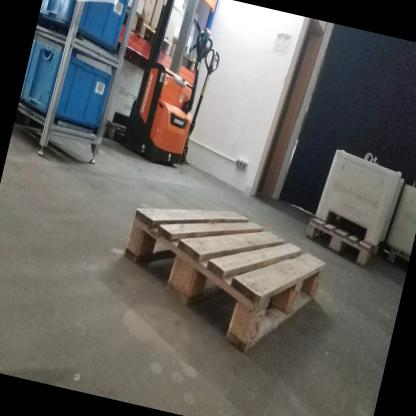BoxFace: (121, 205, 331, 360)
